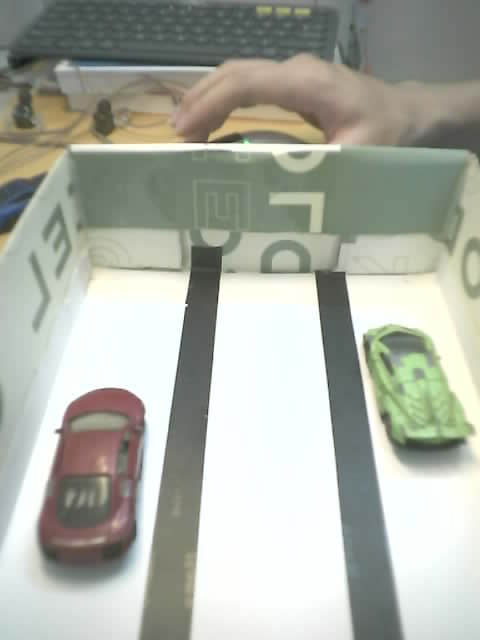vehicle: (37, 387, 147, 587), (362, 325, 465, 473)
